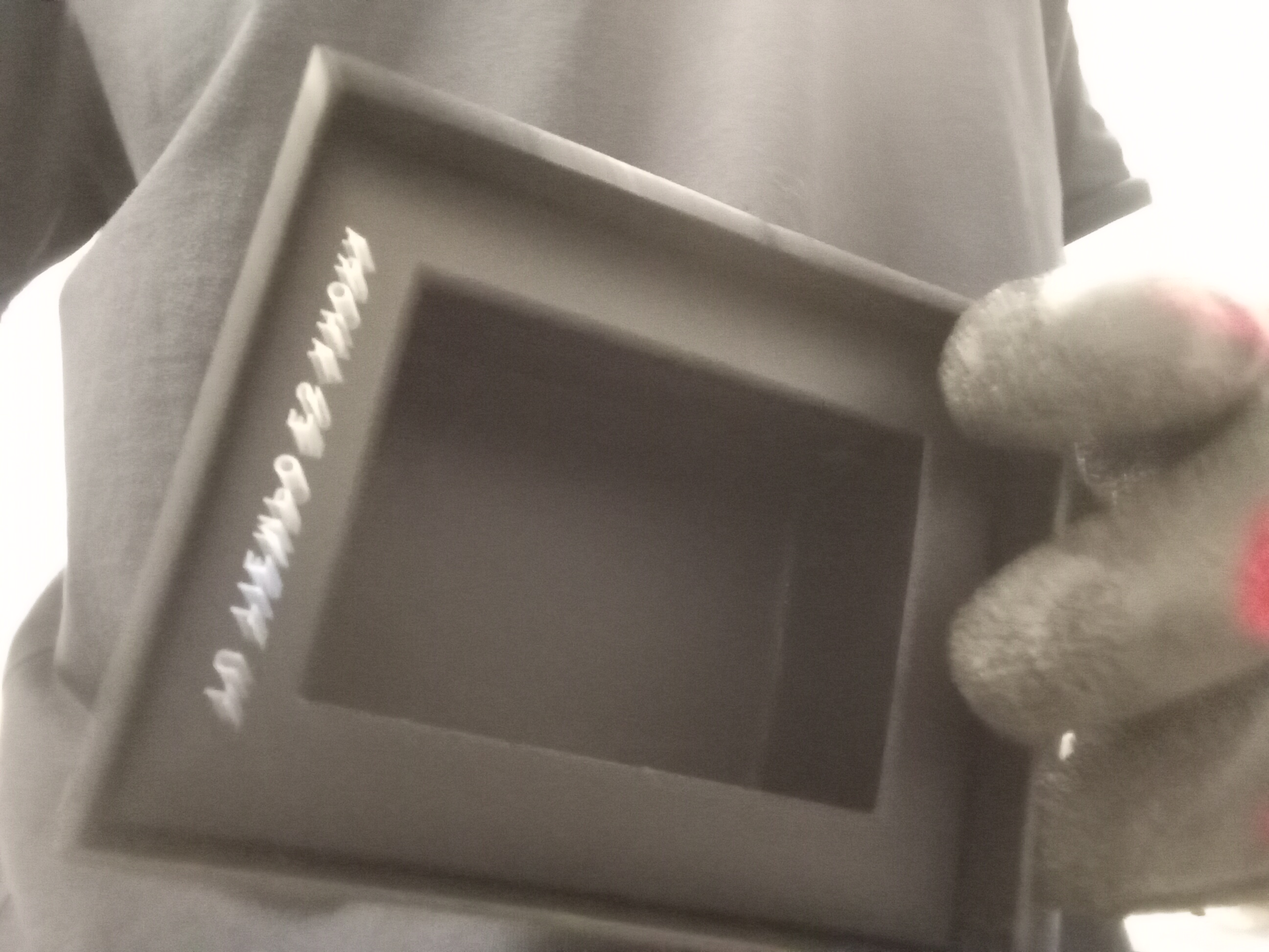Carton: (53, 44, 1047, 952)
